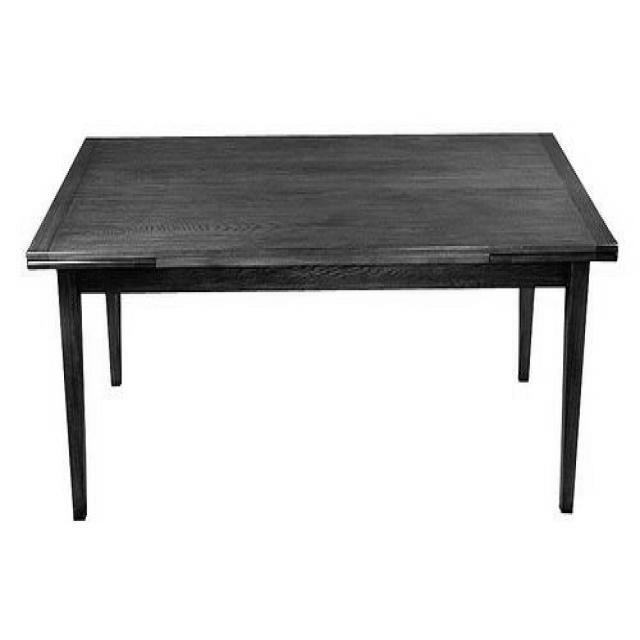table: (27, 134, 619, 522)
